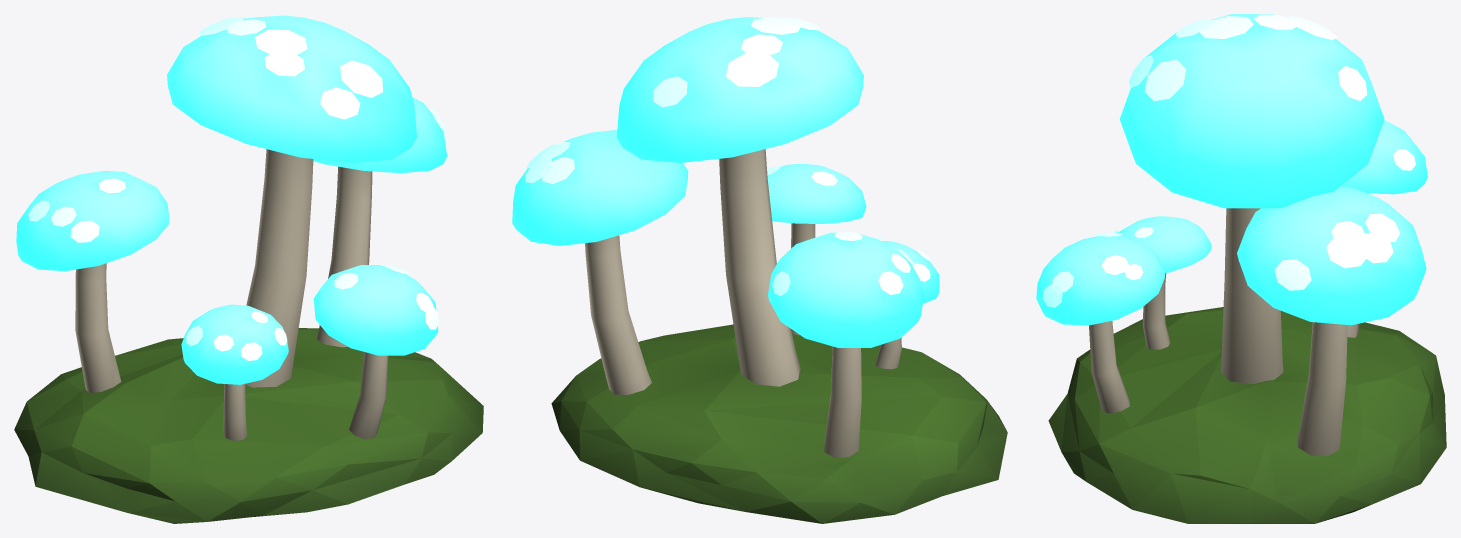
File: mushroom.glb
3 renders of one model, left to right at view 1: azimuth 30°, elevation 25°; view 2: azimuth 150°, elevation 25°; view 3: azimuth 270°, elevation 25°, orthographic. The views are drawn at different scales.
Parts seen in each view (by area): view 1: mushroom; view 2: mushroom; view 3: mushroom.
Boxes of the visible parts, bbox=[...] form: mushroom: bbox=[14, 15, 483, 523]; mushroom: bbox=[512, 17, 1007, 523]; mushroom: bbox=[1036, 14, 1446, 523].
Bounding box in the file's own units: 0.5096 × 0.4531 × 0.4029.
